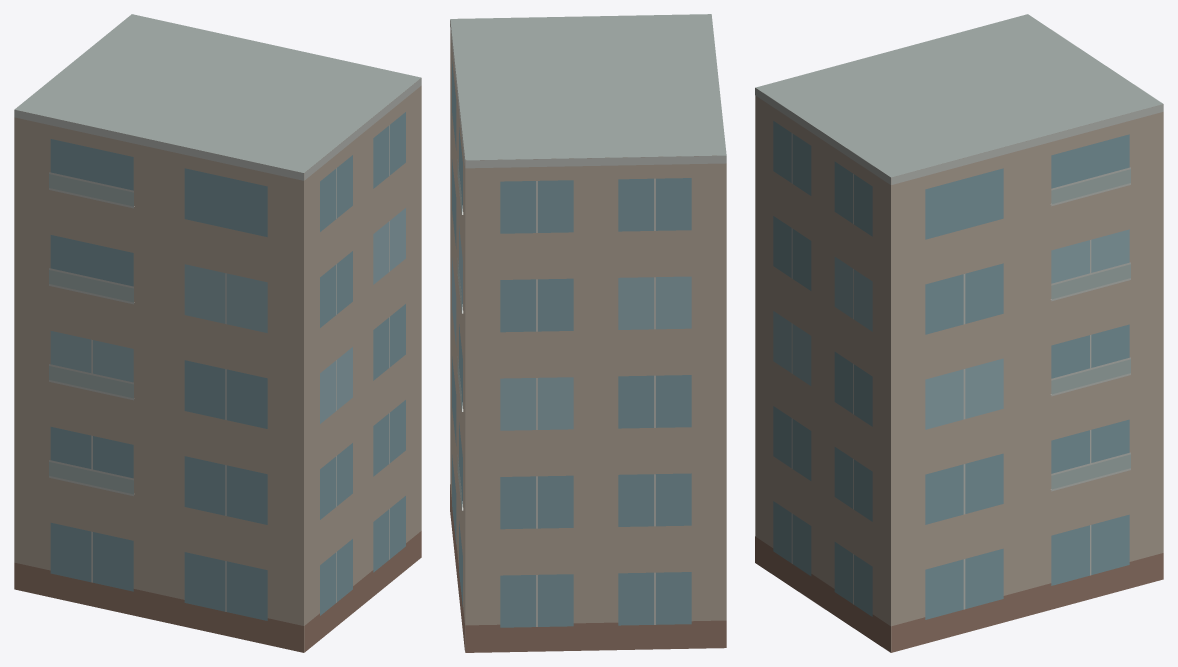
File: survey-upis-32688735.glb
The picture shows the model from 3 angles, left to right: view 1: azimuth 30°, elevation 25°; view 2: azimuth 150°, elevation 25°; view 3: azimuth 270°, elevation 25°; orthographic projection. The views are drawn at different scales.
Parts seen in each view (by area): view 1: survey-upis-32688735.tmp; view 2: survey-upis-32688735.tmp; view 3: survey-upis-32688735.tmp.
Part boxes in pixels (x1,y1,x2,y2): survey-upis-32688735.tmp: (14, 14, 421, 652); survey-upis-32688735.tmp: (450, 14, 726, 652); survey-upis-32688735.tmp: (755, 14, 1163, 652).
Size of the model in its own units: 11.15 by 15.1 by 11.77.
